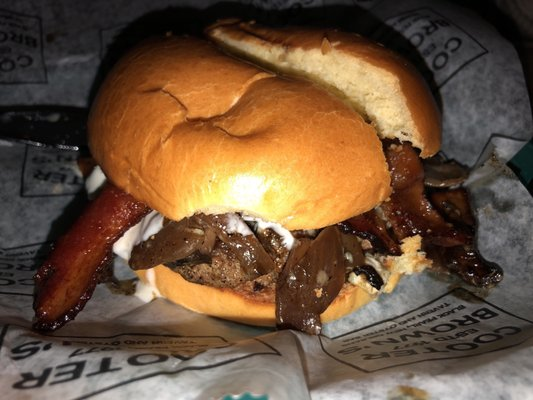soup: (95, 6, 508, 333)
